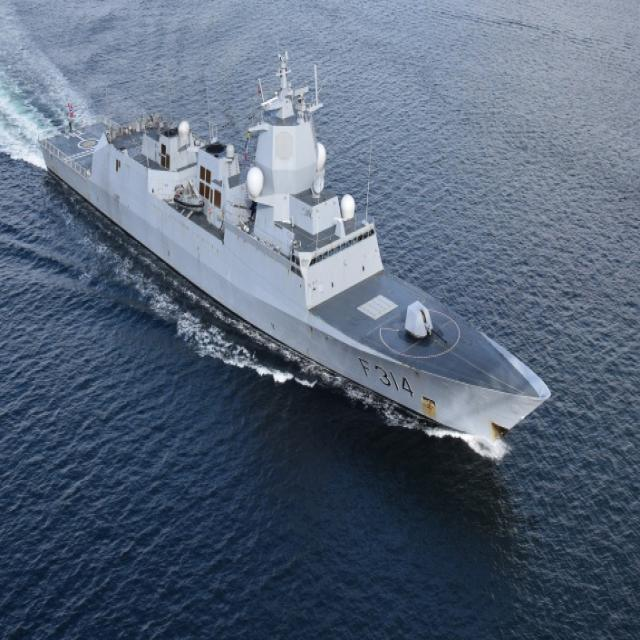Fragata: (35, 38, 554, 447)
